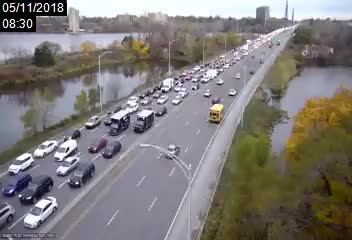congestion: (5, 118, 121, 232), (75, 90, 174, 139), (141, 63, 208, 102), (196, 56, 233, 72)
personal_car: (24, 196, 58, 229), (19, 175, 54, 204), (69, 161, 96, 188), (1, 174, 32, 197), (9, 153, 35, 174), (56, 156, 79, 177), (54, 140, 78, 160), (34, 140, 58, 157), (1, 202, 16, 227), (102, 141, 122, 159), (88, 137, 107, 153), (62, 127, 81, 142), (165, 144, 181, 161), (85, 114, 101, 130), (156, 94, 170, 105), (126, 95, 139, 106), (155, 106, 167, 117), (140, 96, 151, 107), (177, 87, 189, 97), (171, 96, 183, 106), (190, 82, 200, 91), (174, 83, 184, 92), (138, 90, 148, 99), (212, 96, 221, 105), (155, 80, 163, 90), (203, 88, 211, 98), (227, 88, 237, 96), (147, 86, 156, 94), (191, 75, 200, 82), (215, 78, 224, 85), (184, 74, 192, 80), (234, 73, 240, 79)
school_bus: (208, 103, 225, 125)
truck: (107, 110, 131, 136), (134, 110, 153, 135), (161, 78, 173, 93)
